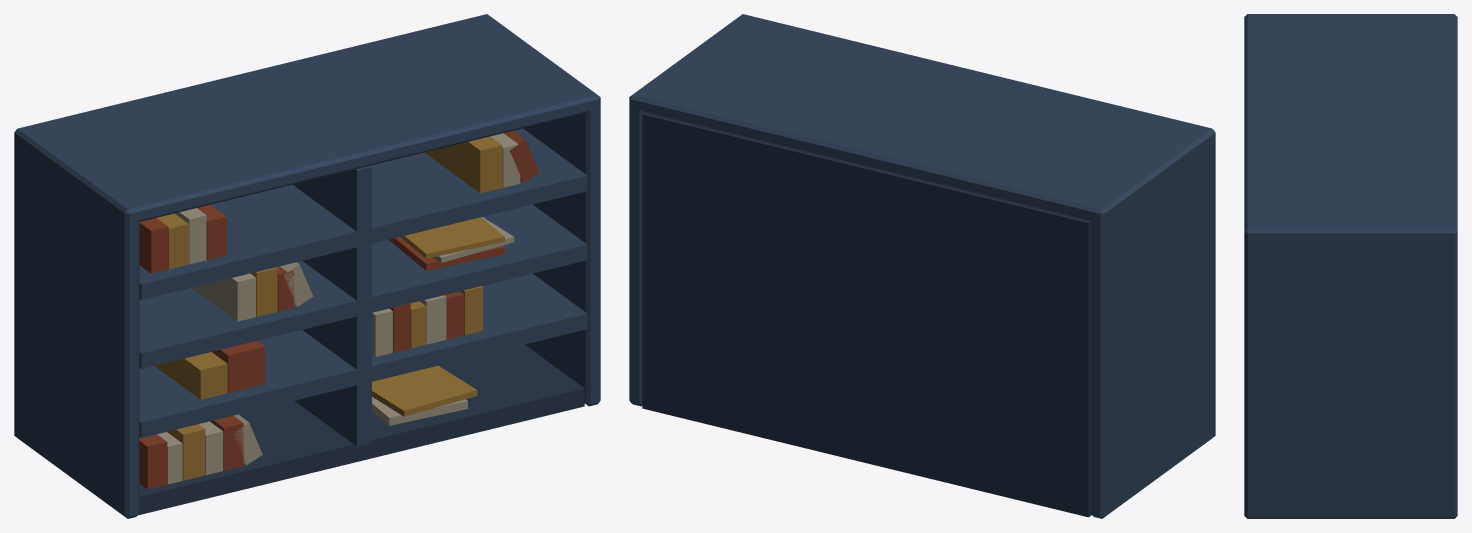
3 renders of one model, left to right at view 1: azimuth 30°, elevation 25°; view 2: azimuth 150°, elevation 25°; view 3: azimuth 270°, elevation 25°, orthographic. The views are drawn at different scales.
Visible parts, largest first — view 1: furniture_5_bookshelf; view 2: furniture_5_bookshelf; view 3: furniture_5_bookshelf.
Boxes of the visible parts, x1,y1,x2,y2 form: furniture_5_bookshelf: (14, 14, 600, 518); furniture_5_bookshelf: (629, 14, 1215, 518); furniture_5_bookshelf: (1244, 14, 1457, 518).
Bounding box in the file's own units: 3.86 × 2.4 × 1.6.
